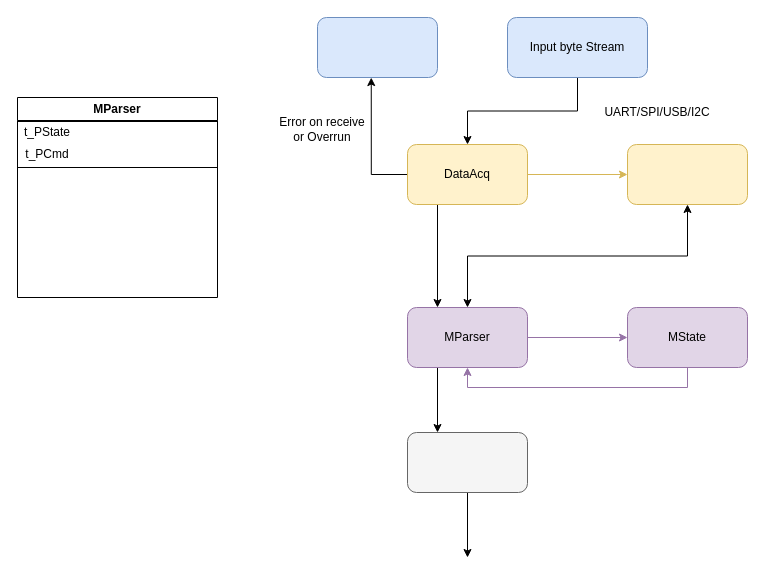
Some shapes in this 765 by 583 pixel diagram are drawn without their labels. The shapes that lost their labels are listed below. From the top down, each one's centre as x and y in pixels, then its label:
At point 377,47: "OutputStatus".
At point 687,174: "circular buffer".
At point 467,462: "PCmd".
